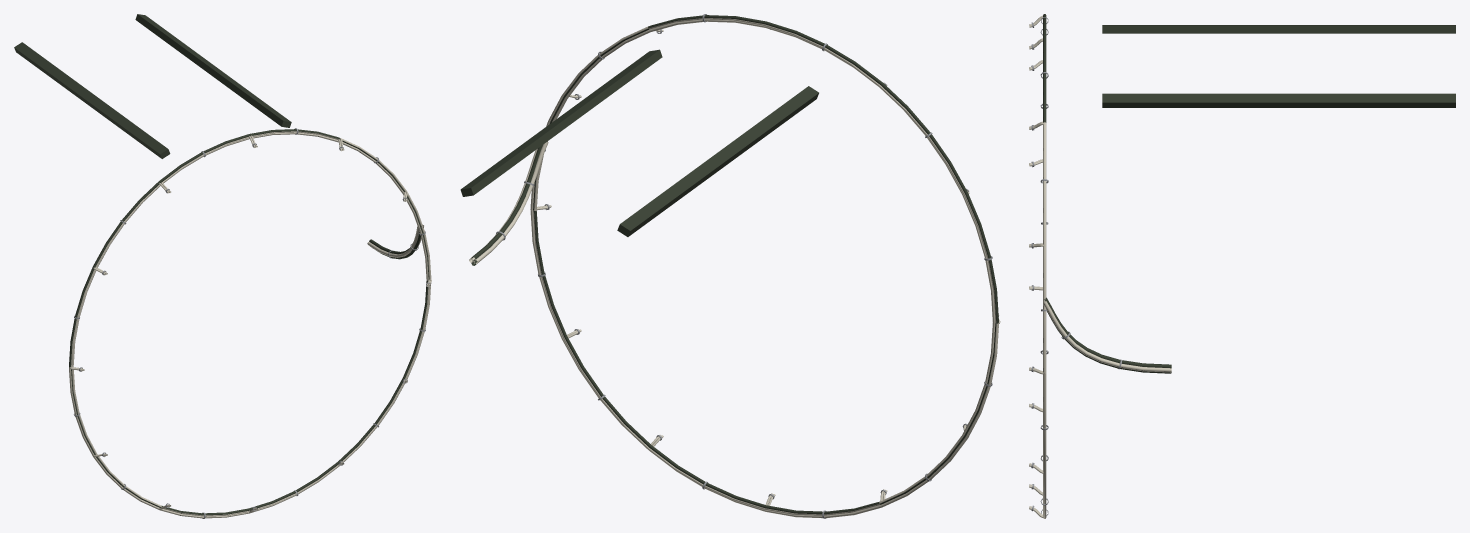
Rendered from tz28v_harness.obj.
3 views of the same model, side by side, from view 1: azimuth 30°, elevation 25°; view 2: azimuth 150°, elevation 25°; view 3: azimuth 270°, elevation 25° (orthographic). The views are drawn at different scales.
Parts seen in each view (by area): view 1: tz28v_harness; view 2: tz28v_harness; view 3: tz28v_harness.
Part boxes in pixels (x1,y1,x2,y2): tz28v_harness: (14,14,431,518); tz28v_harness: (460,14,1000,518); tz28v_harness: (1029,14,1455,518).
Size of the model in its own units: 6.58 by 6.58 by 5.55.
